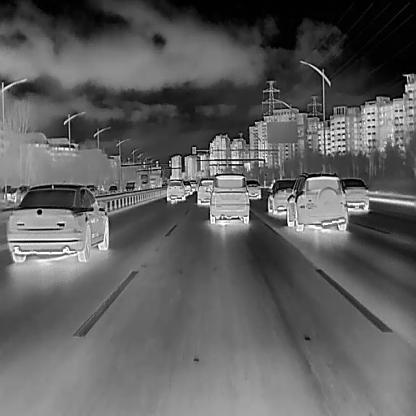car: (4, 182, 110, 262), (284, 169, 348, 230), (205, 173, 250, 223), (338, 176, 370, 213), (267, 178, 297, 214), (196, 177, 218, 206), (165, 179, 186, 202), (245, 177, 261, 200), (2, 185, 21, 201), (180, 180, 191, 196), (139, 172, 150, 188), (124, 180, 137, 193), (85, 184, 98, 196), (149, 174, 160, 188), (107, 184, 117, 195), (188, 177, 197, 189)
